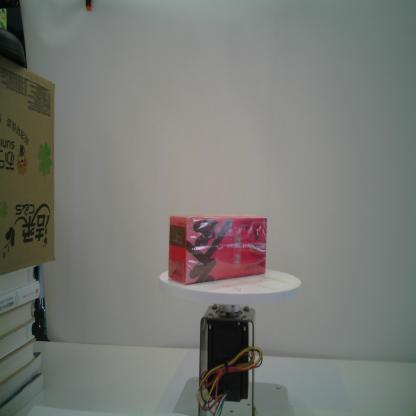Instant Drink: (167, 214, 268, 286)
